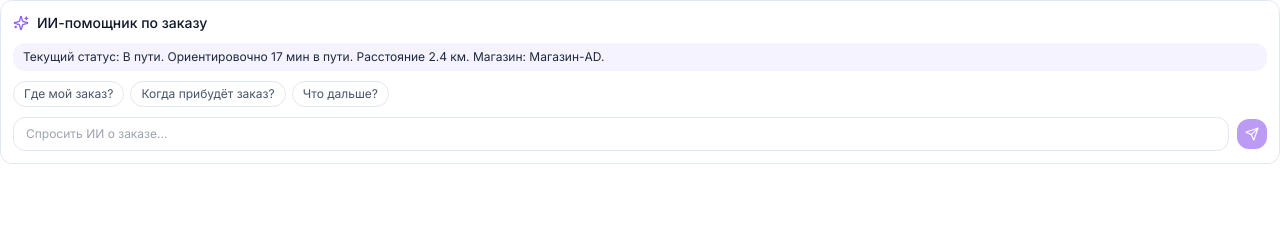
Test: OrderAiChat › поздний авто-ответ ИИ подменяет только фолбэк — история чата не стирается
# пользователь спрашивает, пока ИИ «думает» над авто-сводкой
Click the button "Когда прибудёт заказ?". click: click(208, 94)
box: x1=130 y1=81 x2=286 y2=107
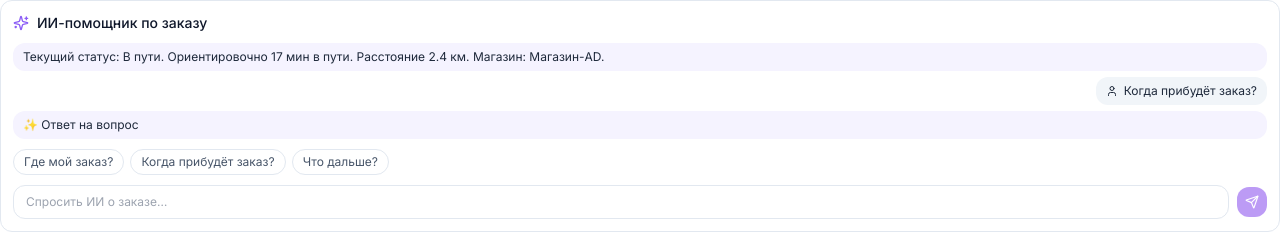
Result: the text "✨ Ответ на вопрос" is shown at x1=13 y1=111 x2=1267 y2=139
Result: the text "Когда прибудёт заказ?" is shown at x1=1124 y1=83 x2=1257 y2=98
Result: the text "Ответ на вопрос" is shown at x1=41 y1=117 x2=139 y2=132
